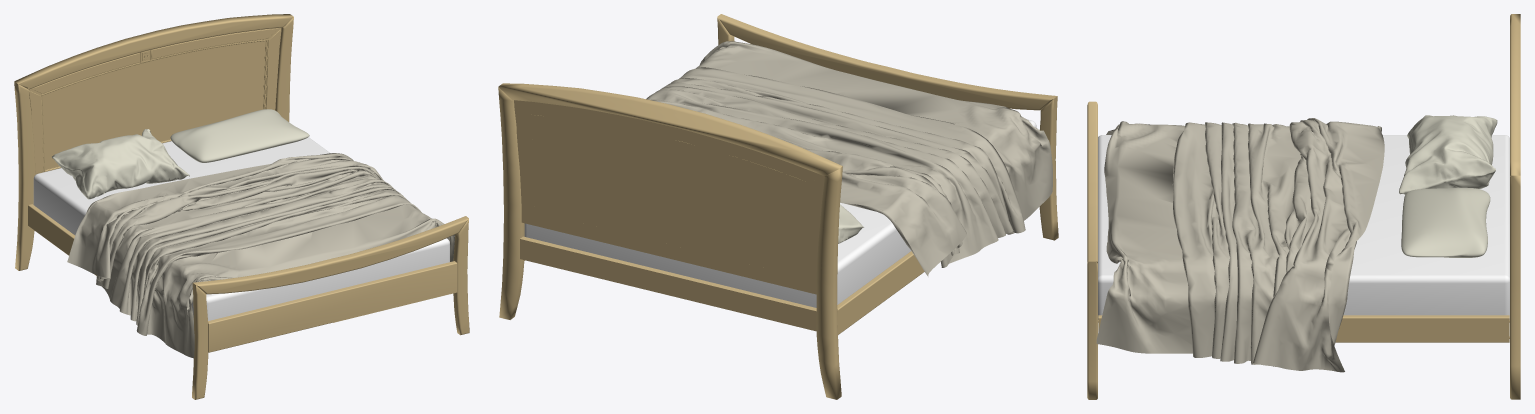
Rendered from viognier-cama.glb.
3 views of the same model, side by side, from view 1: azimuth 30°, elevation 25°; view 2: azimuth 150°, elevation 25°; view 3: azimuth 270°, elevation 25° (orthographic). The views are drawn at different scales.
Size of the model in its own units: 1.94 by 1.24 by 2.
